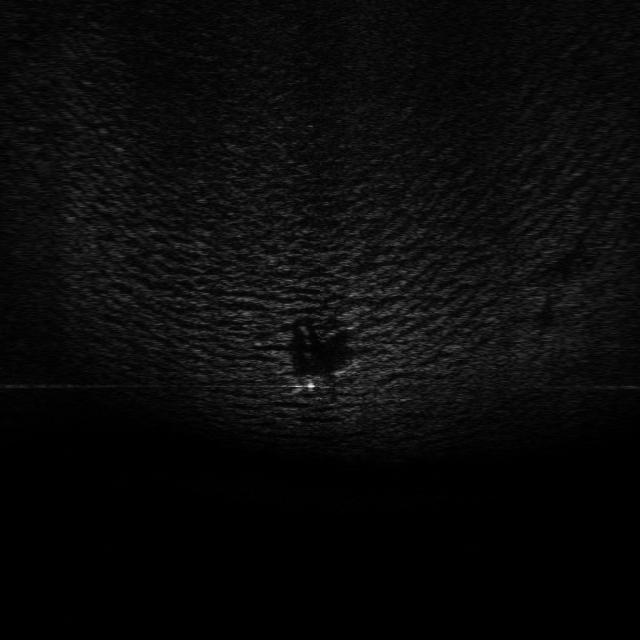plane: (282, 360, 357, 395)
